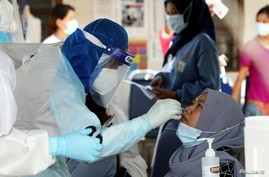Face_Shield: (88, 44, 137, 108)
Gloves: (49, 130, 105, 164), (145, 96, 181, 134)
mask_weared_incorrect: (175, 92, 208, 151)
with_mask: (92, 60, 121, 96), (166, 5, 187, 33)
